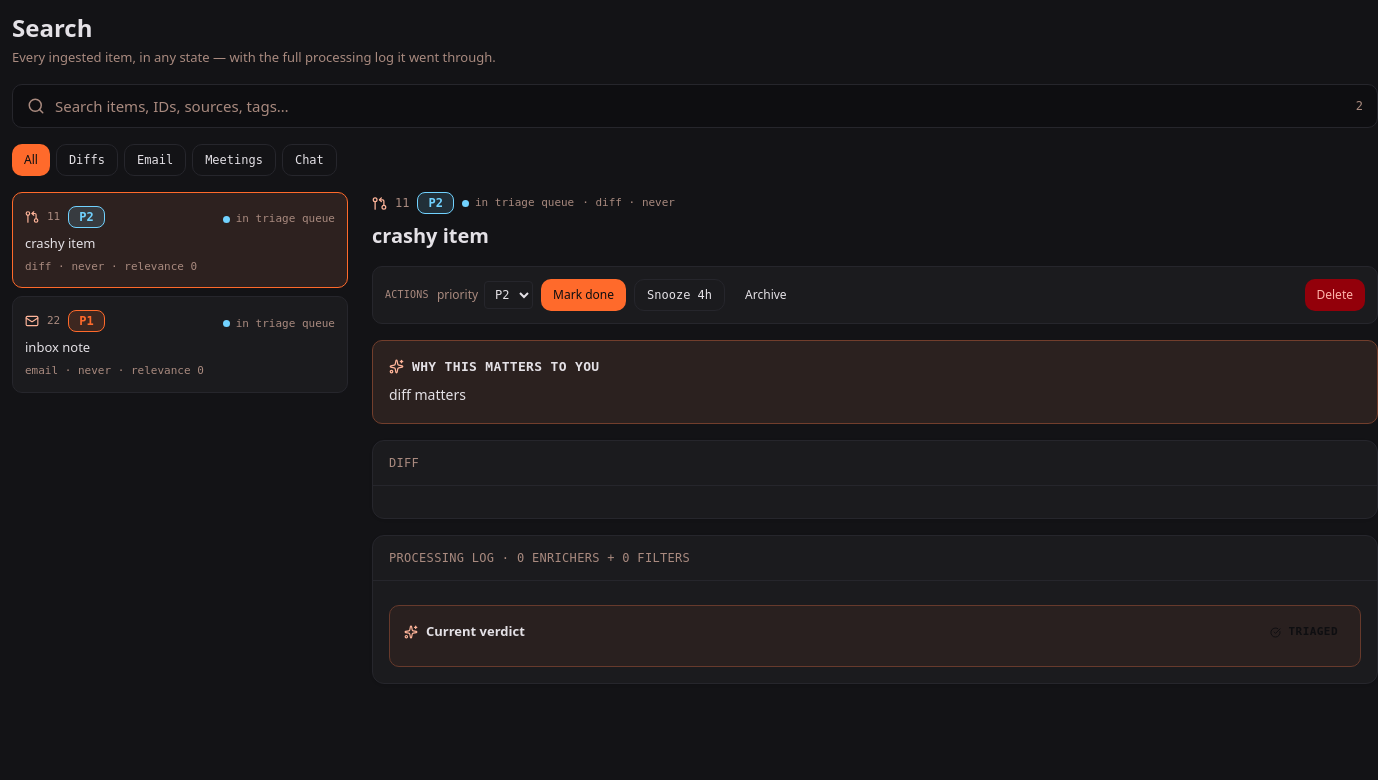
it: Search page › filters results by kind buttons
Expected: the option with id "search-row-11" is shown, [12,192,348,288]
Expected: the option with id "search-row-22" is shown, [12,296,348,393]
Click the button "Email".
click(155, 160)  # box [124,144,186,176]
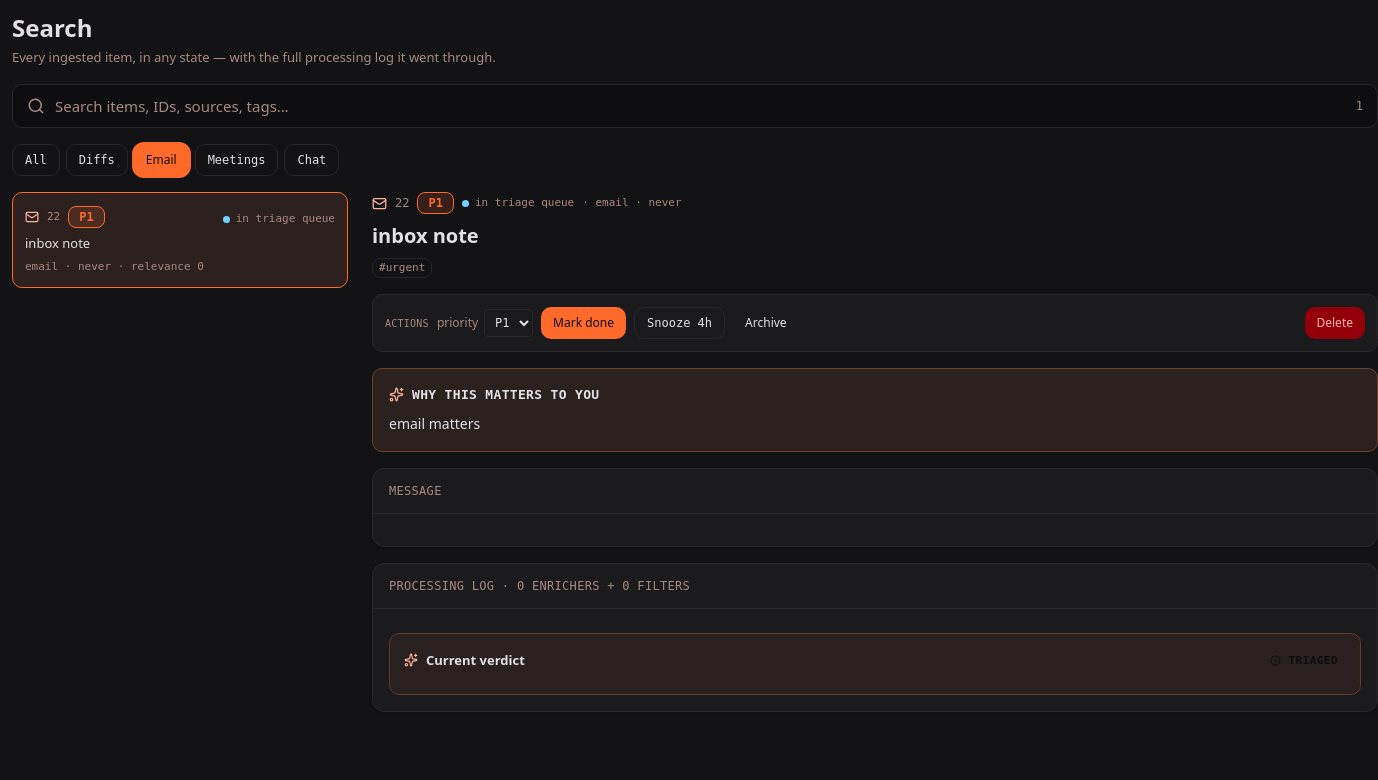
Expected: the option with id "search-row-22" is shown, [12,192,348,288]
Expected: the option with id "search-row-11" is gone
